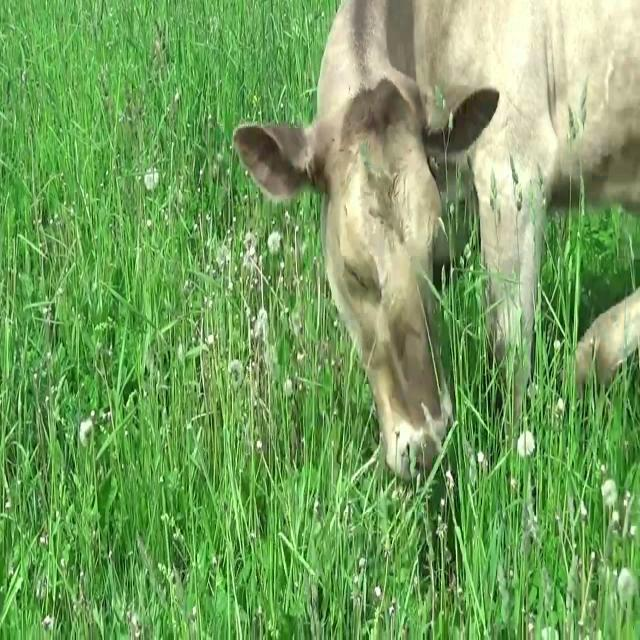cow: (235, 0, 640, 477), (576, 289, 640, 383)
